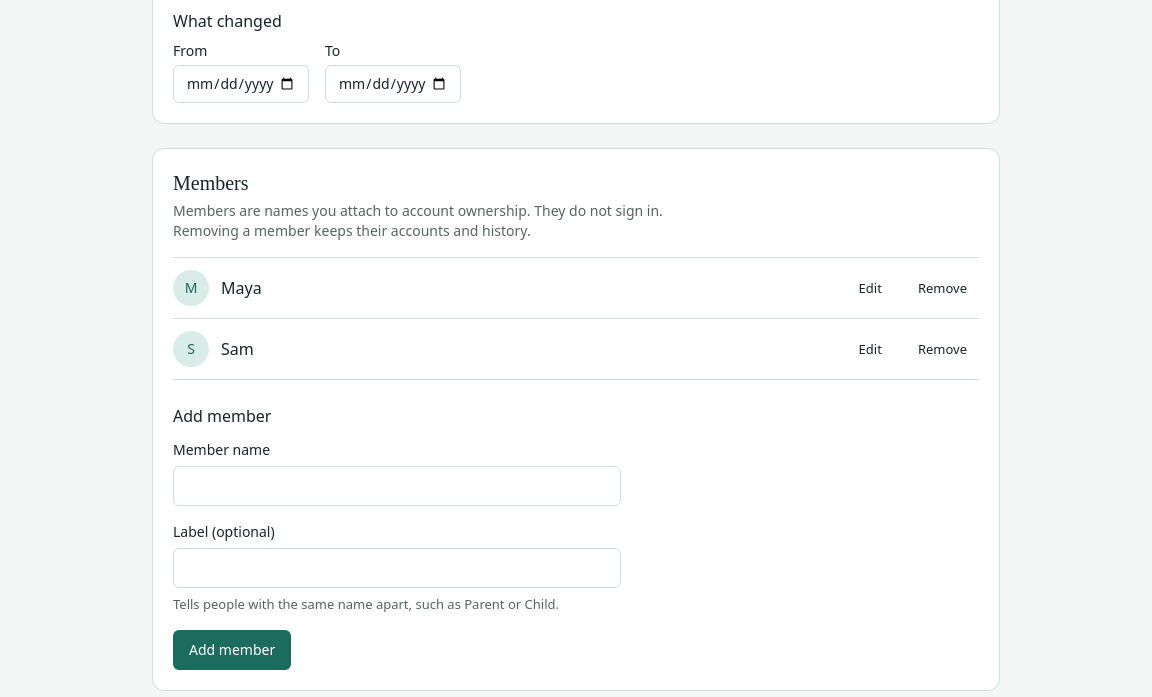
it: removing a member › V2_MEMBERS_006 reviews removing Sam and cancelling leaves both active and checking jointly owned
(page scrolled)
Click the button with aria-label "Remove member Sam" at [942, 349], box [906,333,979,365]
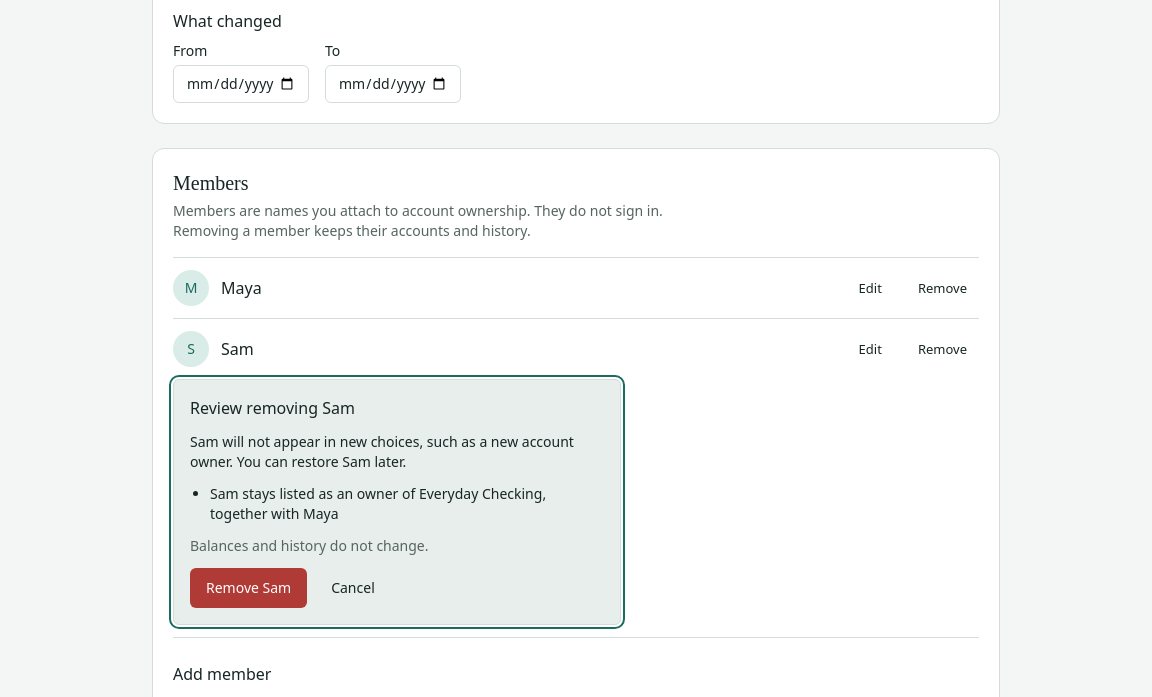
Now the element "Review removing Sam" shows "Everyday Checking", box [419,484,542,503]
Now the element "Review removing Sam" shows "Balances and history do not change", box [190,536,428,555]
Now the element "Review removing Sam" shows "stays listed as an owner", box [239,484,419,503]
Click the button "Cancel" at [353, 588], box [315,568,391,608]
(page scrolled)
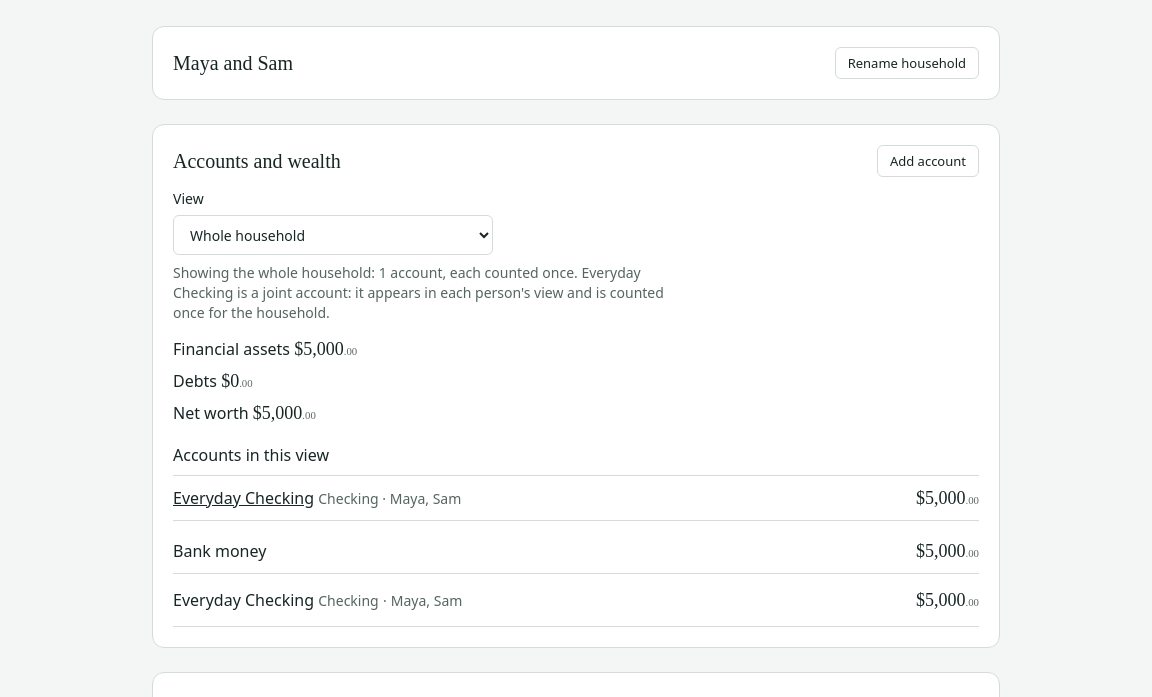
Expected: the text "Maya, Sam" is shown, [391,591,462,610]
Now the heading "Review removing Sam" is gone
